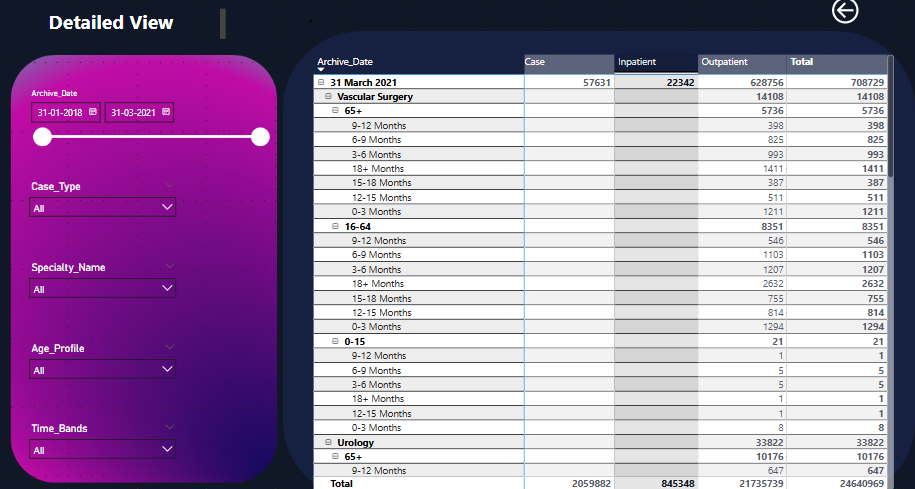

The dashboard page shown, as its layout file describes it:
{"tool":"powerbi","page":{"name":"Detail","canvas":[1280,720],"ordinal":1},"visuals":[{"type":"slicer","fields":{"Values":["All_Data.Specialty_Name"]},"box":[32,368,224,96],"z":0},{"type":"textbox","box":[64,16,256,64],"z":1000},{"type":"slicer","fields":{"Values":["All_Data.Archive_Date"]},"box":[32,128,352,96],"z":2000},{"type":"slicer","fields":{"Values":["All_Data.Case_Type"]},"box":[32,256,224,96],"z":3000},{"type":"slicer","fields":{"Values":["All_Data.Time_Bands"]},"box":[32,592,224,64],"z":4000},{"type":"slicer","fields":{"Values":["All_Data.Age_Profile"]},"box":[32,480,224,80],"z":5000},{"type":"pivotTable","fields":{"Rows":["All_Data.Archive_Date","All_Data.Speciality_Name","All_Data.Age_Profile","All_Data.Time_Bands"],"Columns":["All_Data.Case_Type"],"Values":["Sum(All_Data.Total)"]},"box":[432,80,816,624],"z":6000},{"type":"actionButton","box":[1152,0,96,48],"z":6001}]}

Visuals, with their boxes on the page's 1280x720 design canvas (x1, y1, x2, y2). These are canvas units, not pixel positions in the 915x489 screenshot, which may show the page scaled, cropped or inside an application window:
slicer - All_Data.Specialty_Name: (32,368,256,464)
textbox: (64,16,320,80)
slicer - All_Data.Archive_Date: (32,128,384,224)
slicer - All_Data.Case_Type: (32,256,256,352)
slicer - All_Data.Time_Bands: (32,592,256,656)
slicer - All_Data.Age_Profile: (32,480,256,560)
pivotTable - All_Data.Archive_Date x All_Data.Speciality_Name: (432,80,1248,704)
actionButton: (1152,0,1248,48)
